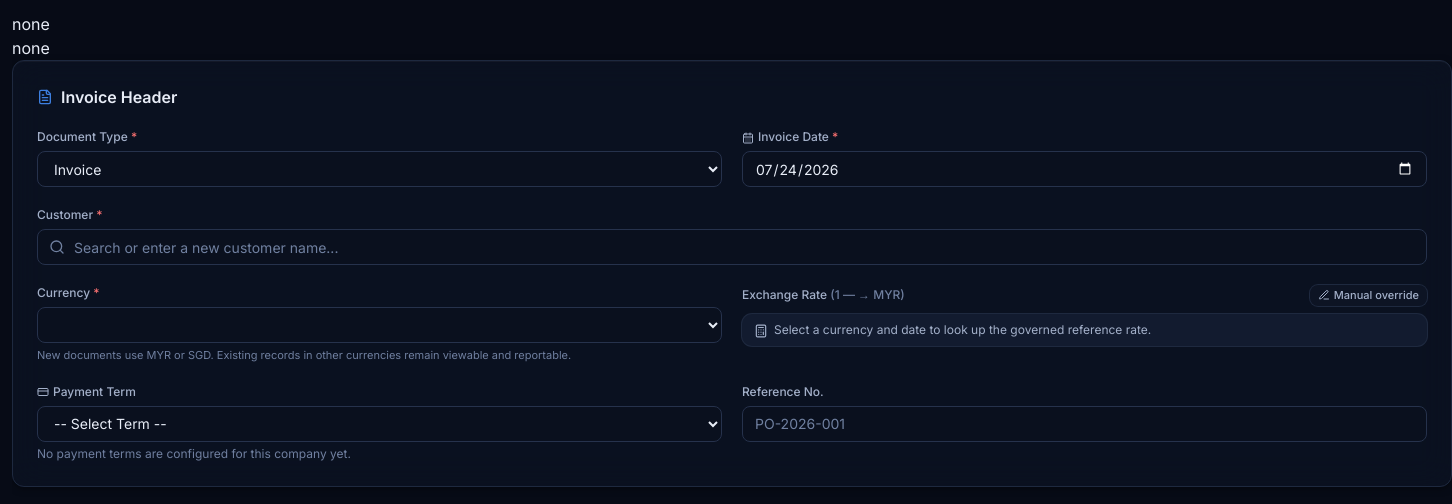
Test: legacy customer default currency is clamped for NEW documents › a USD-default customer cannot start a NEW Invoice in USD
Focus the field with placeholder "Search or enter a new customer name...": point(732, 247) [37, 229, 1427, 265]
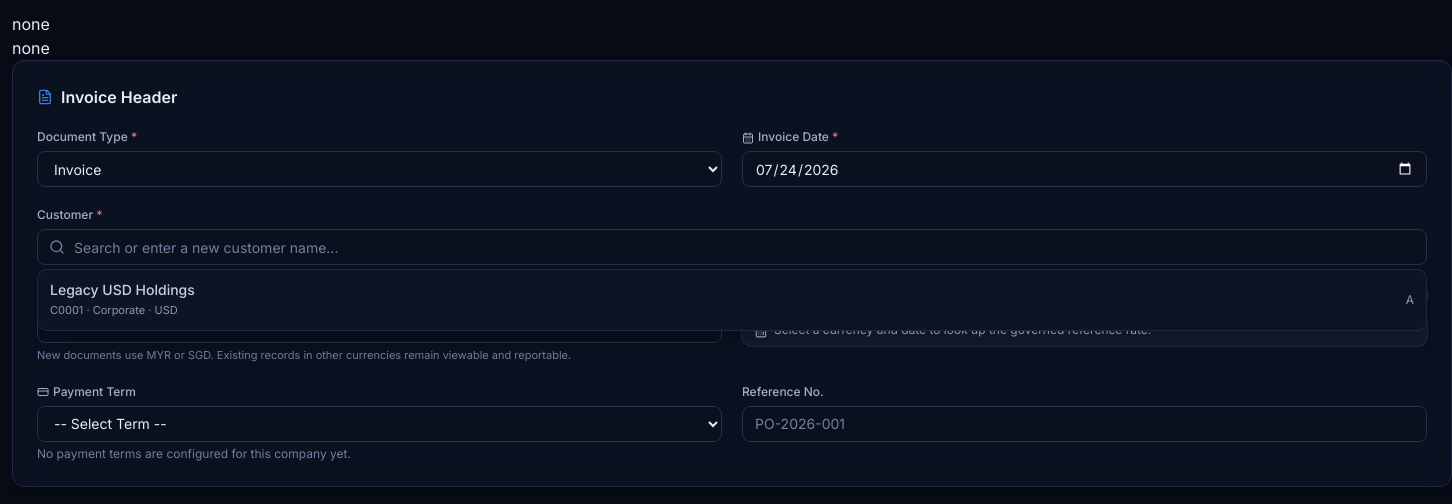
Click the text "Legacy USD Holdings": point(122, 290) [50, 280, 195, 300]
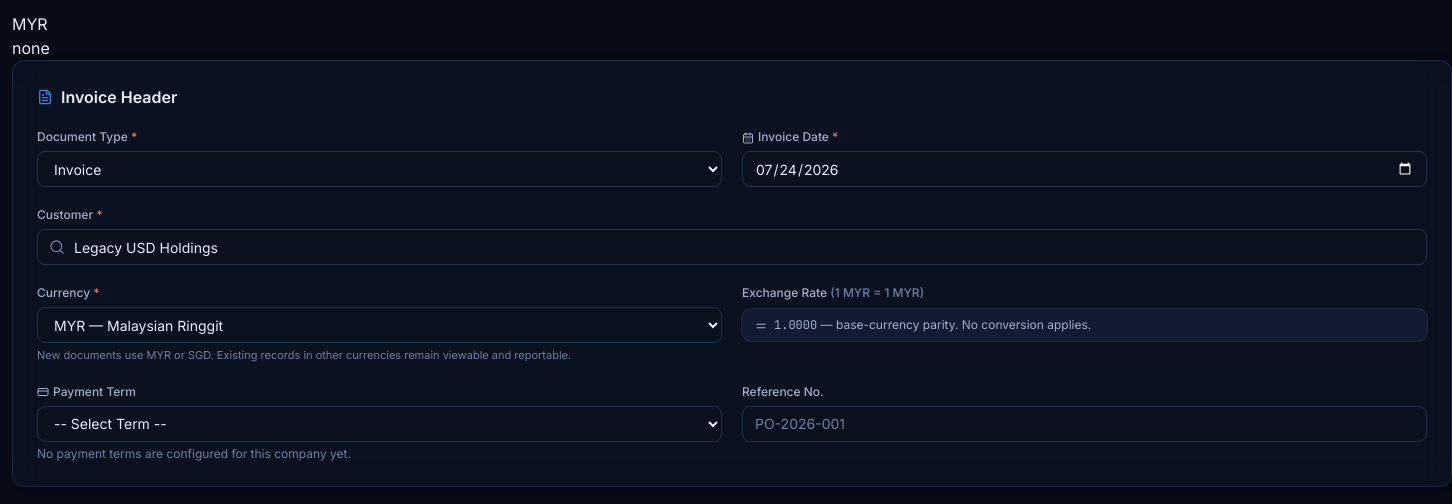
Now the text with test id "form-currency" reads "MYR", box [12, 14, 48, 34]
Now the button with test id "form-currency" no longer shows "USD"
